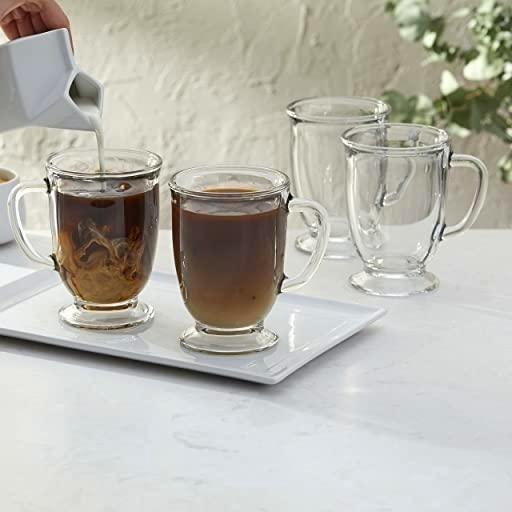glass-mug: (166, 161, 332, 357), (8, 141, 173, 337), (338, 123, 491, 303), (284, 91, 394, 265)
